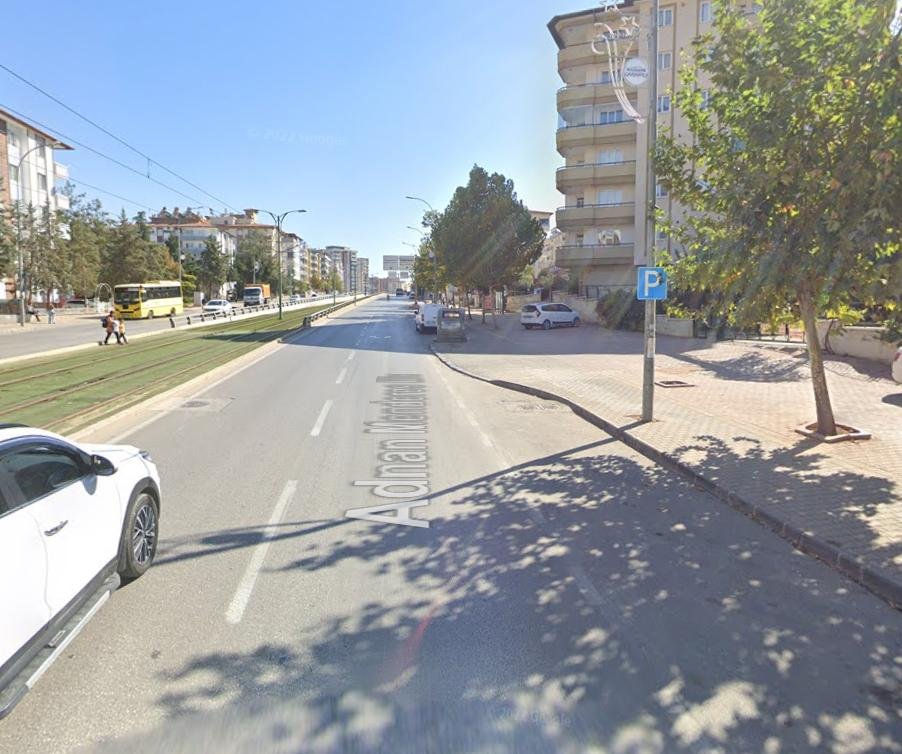park: (639, 269, 667, 299)
